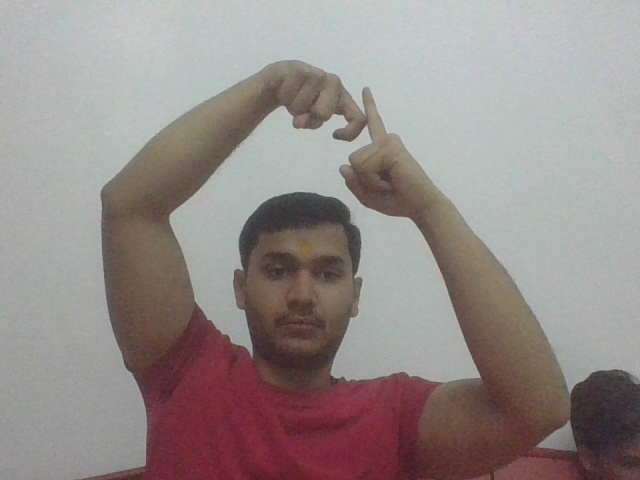K: (320, 73, 398, 157)
